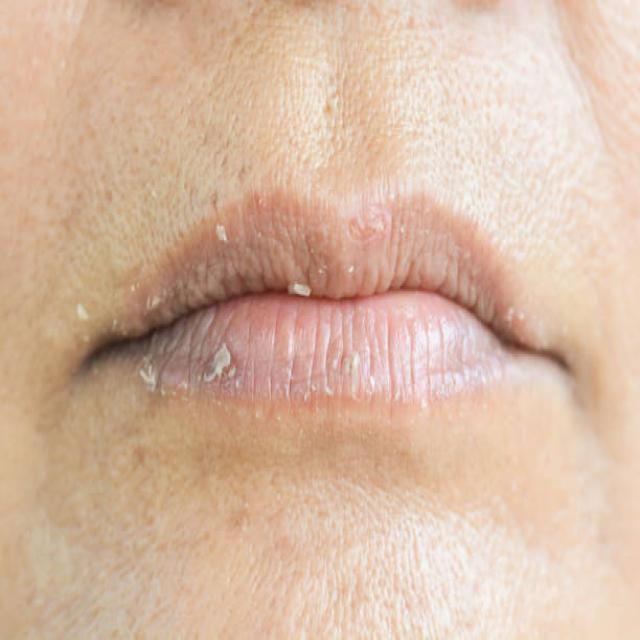Dry-Skin: (165, 179, 514, 460), (459, 470, 640, 640), (264, 462, 429, 613), (82, 472, 212, 597), (72, 30, 220, 137), (402, 56, 489, 135)
